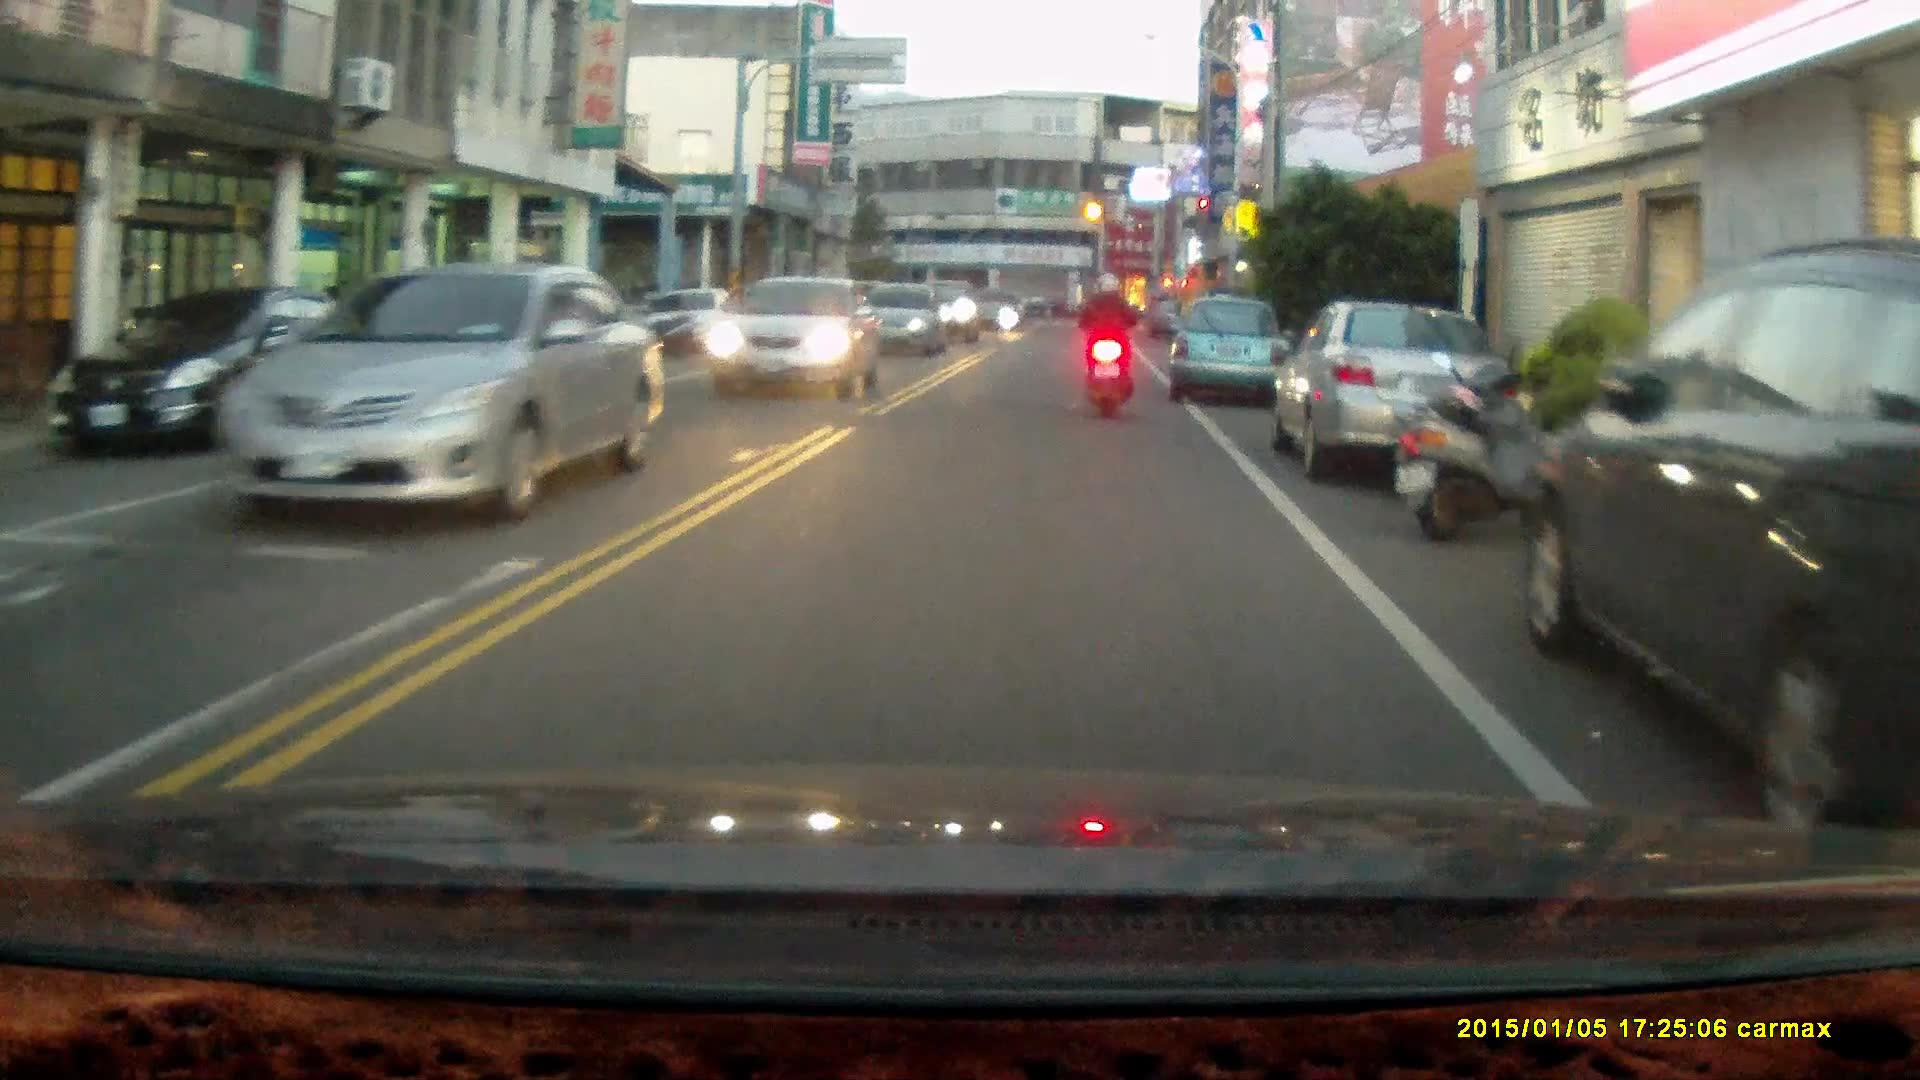rider: (1078, 268, 1137, 418)
vehicle: (1522, 234, 1920, 795), (209, 262, 670, 529), (40, 286, 408, 464), (1278, 293, 1506, 469), (703, 275, 883, 399), (1165, 295, 1295, 407), (847, 284, 949, 360)
